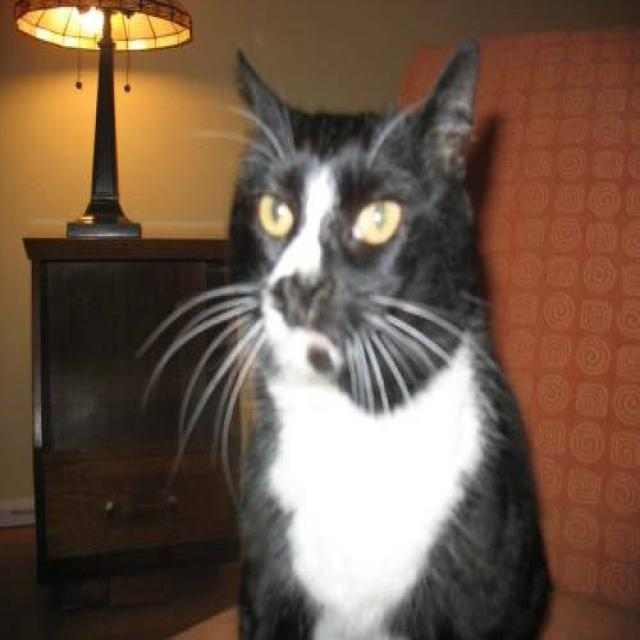cat: (133, 38, 556, 638)
